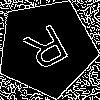R: (22, 23, 76, 80)
